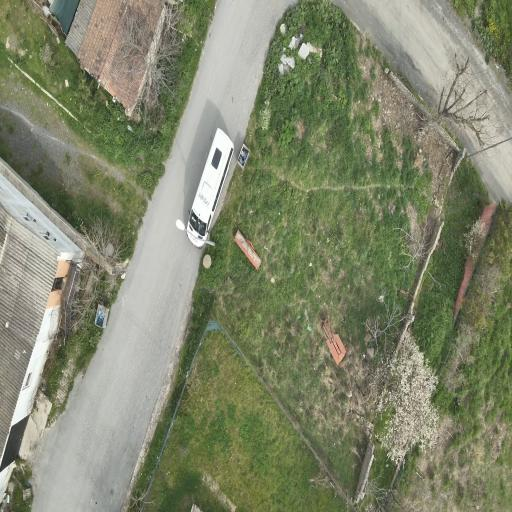car: (187, 128, 233, 247)
